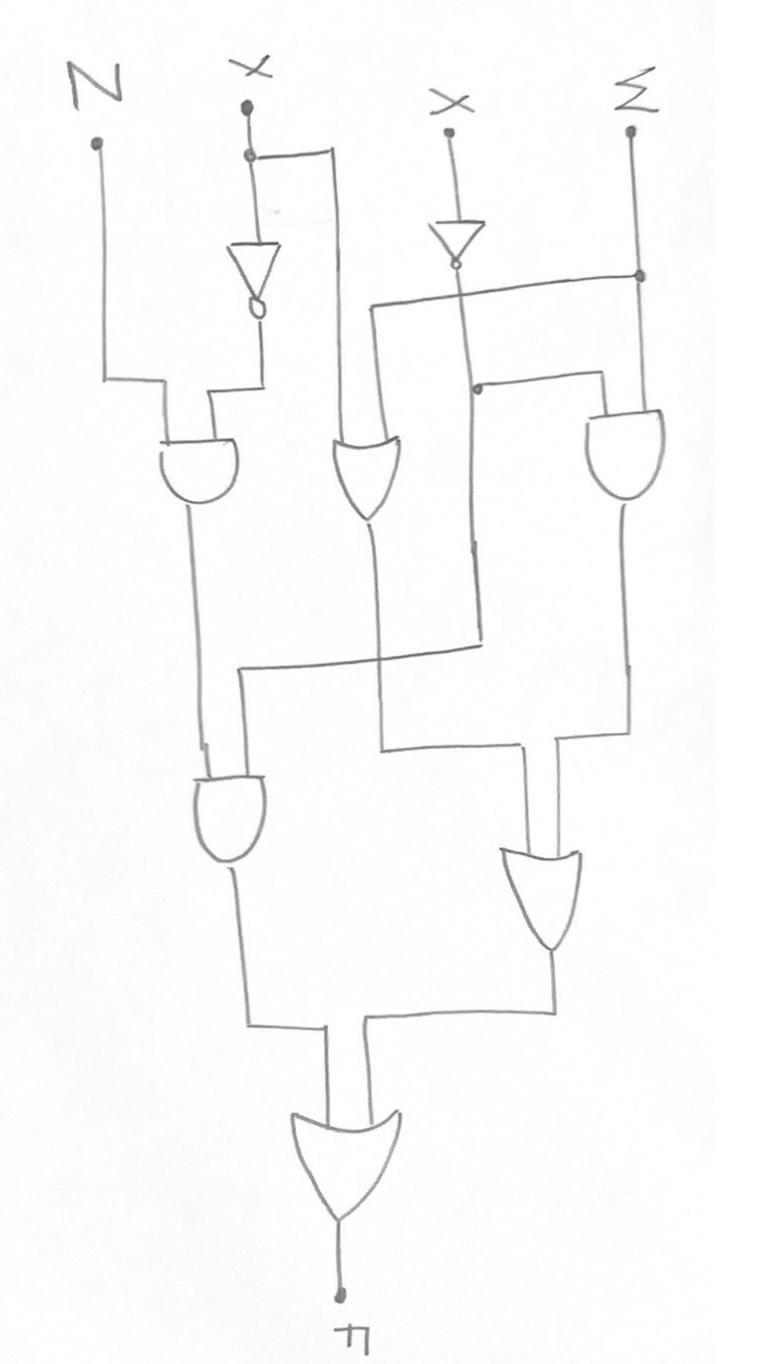AND: (150, 738, 314, 881), (555, 400, 717, 537), (130, 428, 269, 538)
NOT: (192, 225, 311, 328), (400, 205, 506, 289)
OR: (270, 1095, 426, 1234), (470, 835, 618, 962), (315, 422, 435, 543)
